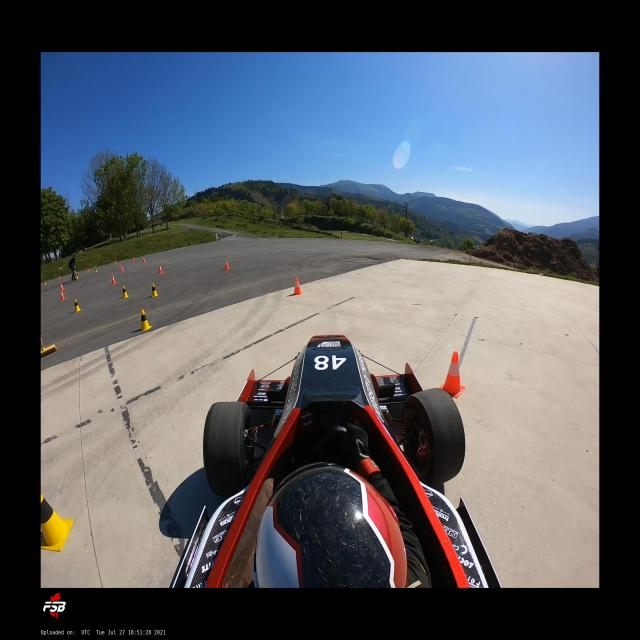orange_cone: (439, 350, 466, 398), (292, 277, 304, 295), (224, 258, 230, 270), (60, 289, 66, 300), (158, 264, 164, 274), (111, 274, 117, 283), (60, 282, 64, 290), (120, 264, 124, 271), (132, 257, 136, 262), (76, 272, 79, 278), (143, 256, 146, 262), (87, 266, 90, 272), (59, 274, 61, 280), (115, 260, 117, 265)
yellow_cone: (41, 487, 74, 550), (138, 309, 152, 331), (150, 282, 160, 298), (121, 284, 130, 298), (74, 298, 82, 312), (76, 272, 79, 278), (95, 266, 98, 272), (44, 280, 48, 284)
